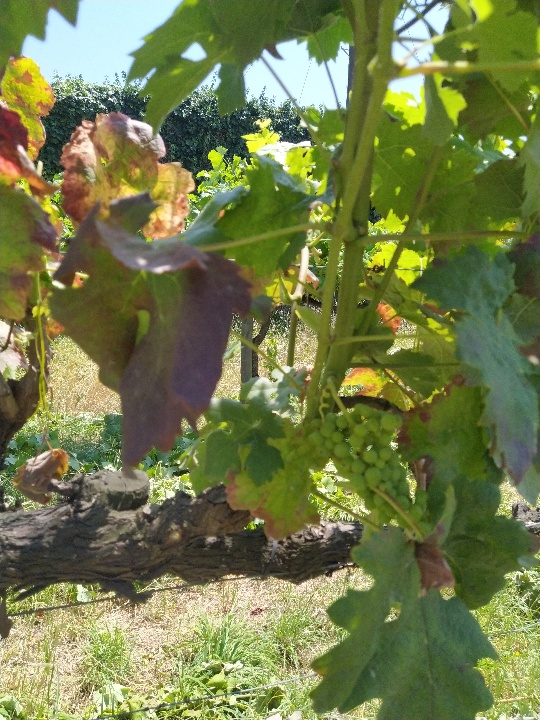grape: (302, 397, 416, 524)
